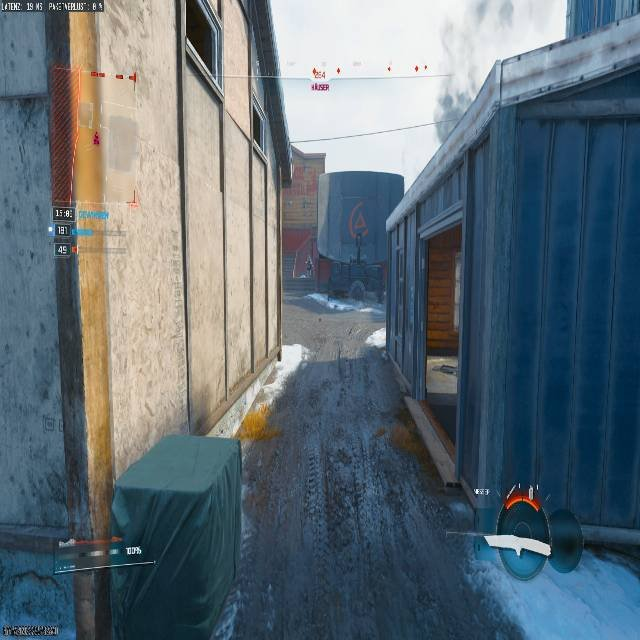player: (304, 257, 313, 276)
